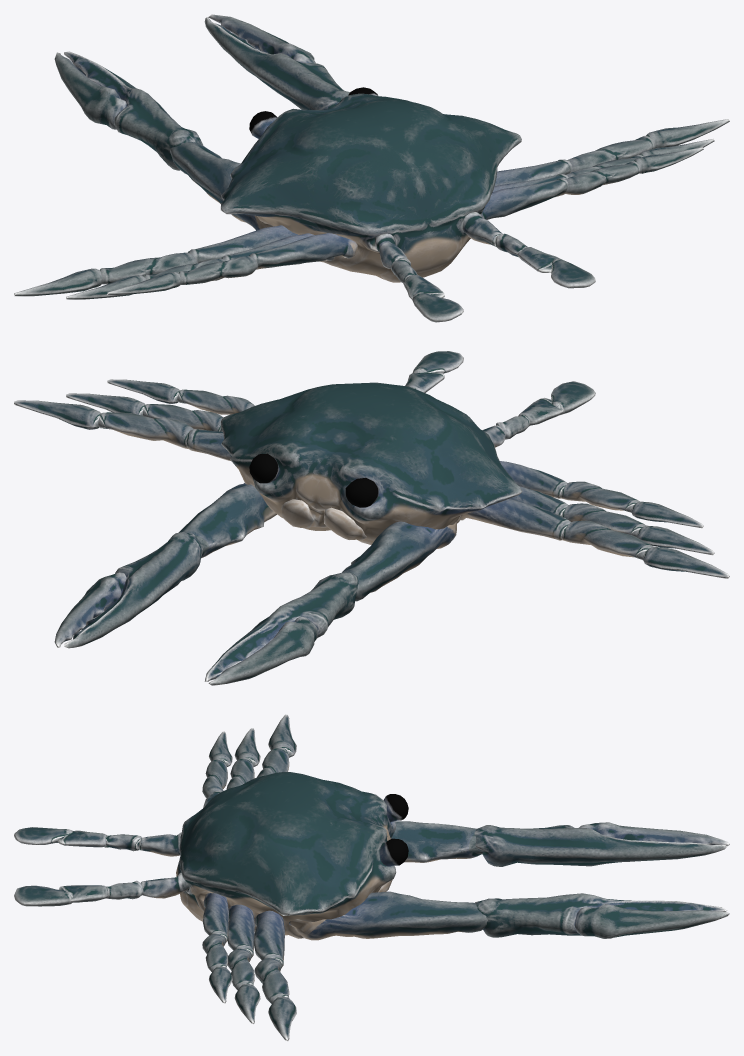
The model's file is Crab.glb.
3 renders of one model, top to bottom at view 1: azimuth 30°, elevation 25°; view 2: azimuth 150°, elevation 25°; view 3: azimuth 270°, elevation 25°, orthographic. The views are drawn at different scales.
Visible parts, largest first — view 1: Crab_Body, Claw_R, Claw_Low, Leg_L_1_tip (×3), Leg_L_1_Mid (×2), Leg_R_1_Mid (×2), Arm_L, Pincer_Low, Leg_L_3, Leg_R_1_tip (×2), Leg_R_3, Pincer_R (+9 smaller); view 2: Crab_Body, Claw_R, Leg_L_1_Mid (×3), Leg_R_1_Mid (×3), Claw_Low, Arm_L, Arm_R, Leg_L_1_tip (×3), Leg_R_1_tip (×3), Pincer_Low, Leg_L_1, Pincer_R (+11 smaller); view 3: Crab_Body, Claw_Low, Arm_R, Claw_R, Pincer_R, Arm_L, Leg_R_1_Mid (×3), Leg_R_1_tip (×3), Leg_L_1_Mid (×3), Pincer_Low, Leg_R_1, Leg_L_1_tip (×2) (+11 smaller).
Boxes of the visible parts, <box> form: Crab_Body: <box>220,93,521,282</box>; Claw_R: <box>204,17,349,109</box>; Claw_Low: <box>64,51,203,170</box>; Leg_L_1_tip (×3): <box>14,268,180,299</box>; Leg_L_1_Mid (×2): <box>99,252,258,284</box>; Leg_R_1_Mid (×2): <box>565,136,656,194</box>; Arm_L: <box>170,142,273,230</box>; Pincer_Low: <box>54,52,126,129</box>; Leg_L_3: <box>249,233,357,269</box>; Leg_R_1_tip (×2): <box>634,119,729,173</box>; Leg_R_3: <box>481,178,568,219</box>; Pincer_R: <box>208,14,315,63</box>; Crab_Body: <box>220,382,522,544</box>; Claw_R: <box>64,532,203,648</box>; Leg_L_1_Mid (×3): <box>560,481,653,559</box>; Leg_R_1_Mid (×3): <box>98,389,254,448</box>; Claw_Low: <box>204,571,358,681</box>; Arm_L: <box>342,516,460,601</box>; Arm_R: <box>179,483,276,558</box>; Leg_L_1_tip (×3): <box>631,501,729,578</box>; Leg_R_1_tip (×3): <box>14,379,179,429</box>; Pincer_Low: <box>208,616,317,685</box>; Leg_L_1: <box>459,499,571,540</box>; Pincer_R: <box>54,572,126,647</box>; Crab_Body: <box>176,772,396,938</box>; Claw_Low: <box>474,825,727,866</box>; Arm_R: <box>289,891,487,940</box>; Claw_R: <box>474,893,727,937</box>; Pincer_R: <box>575,904,729,938</box>; Arm_L: <box>391,821,482,862</box>; Leg_R_1_Mid (×3): <box>202,933,289,1003</box>; Leg_R_1_tip (×3): <box>209,966,296,1041</box>; Leg_L_1_Mid (×3): <box>202,747,289,798</box>; Pincer_Low: <box>579,822,729,846</box>; Leg_R_1: <box>253,910,284,967</box>; Leg_L_1_tip (×2): <box>234,714,296,766</box>.
Size of the model in its own units: 53.75 by 9.86 by 50.16.
1 material, 1 textured.
